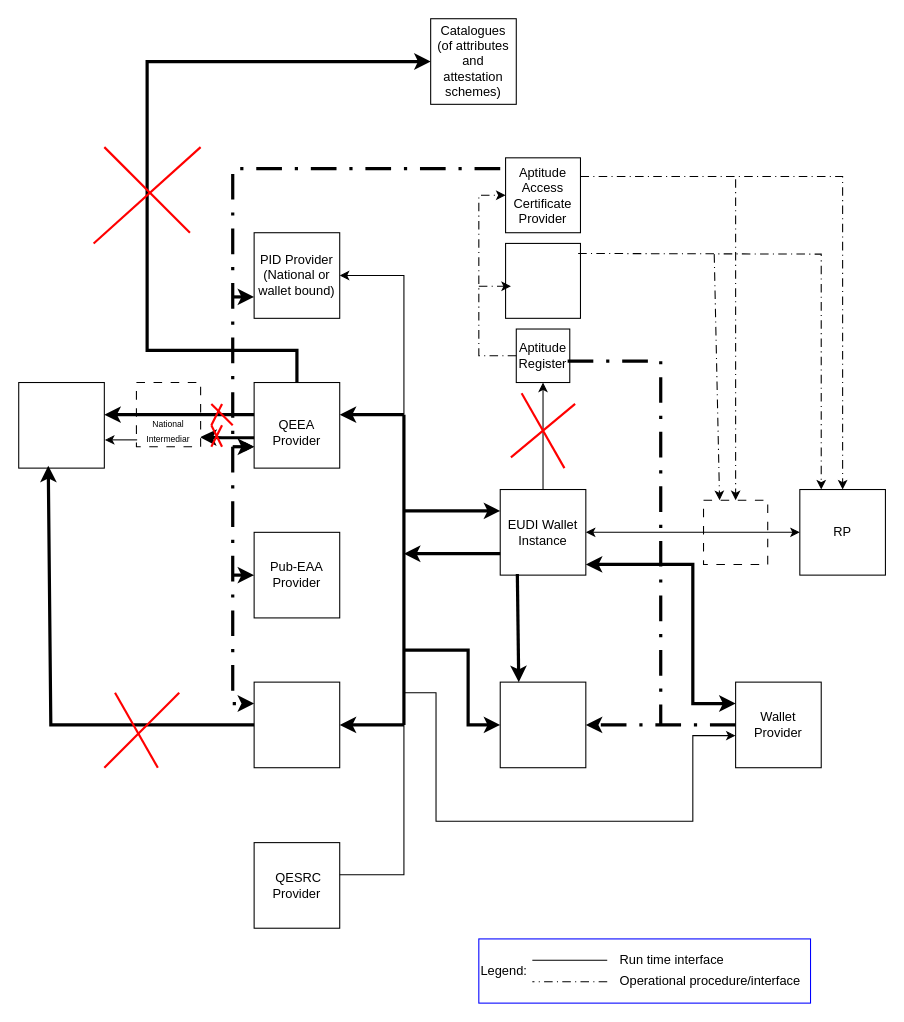
This 904x1022 diagram has some shape labels left out. Here are the shapes that lost their labels. From the top down, the centre of each, then its label:
At point (542, 280): "Aptitude Register Certificate Provider".
At point (61, 424): "Authentic source".
At point (735, 531): "RP Intermediar".
At point (296, 724): "EAA Provider".
At point (542, 724): "Aptitude LoTL/ TLP's".
